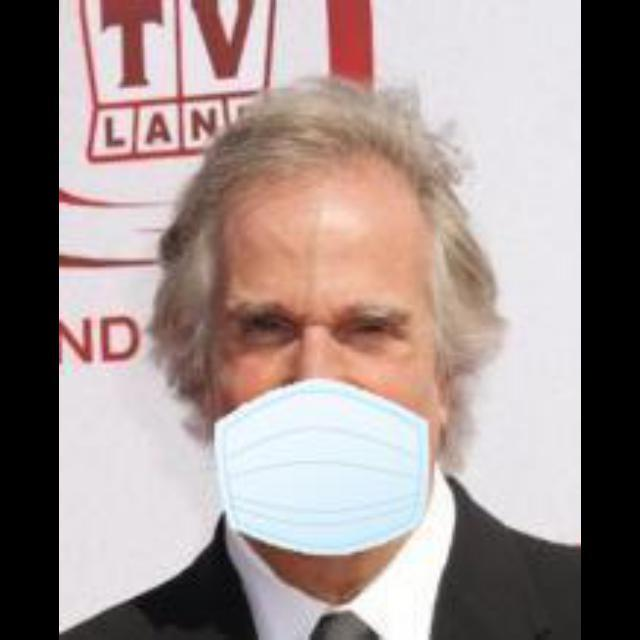suspicion: (219, 146, 471, 548)
